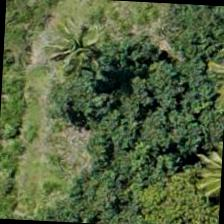Kelapa_Sawit: (169, 133, 224, 223)
